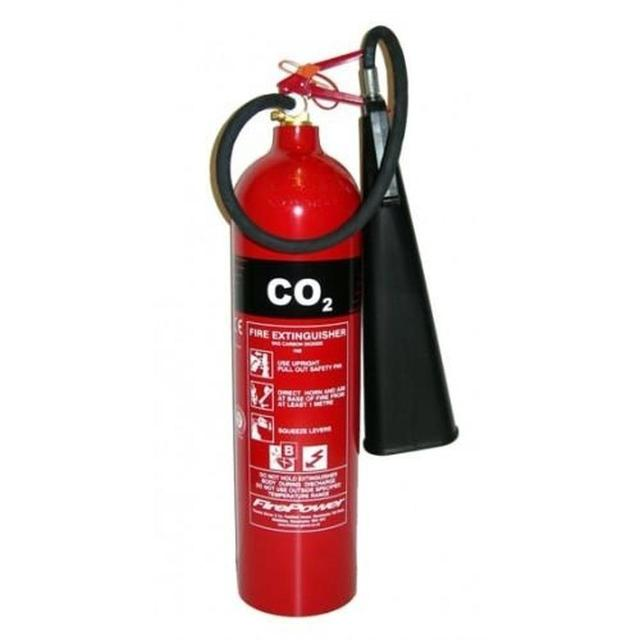fire_extinguisher: (210, 19, 464, 620)
